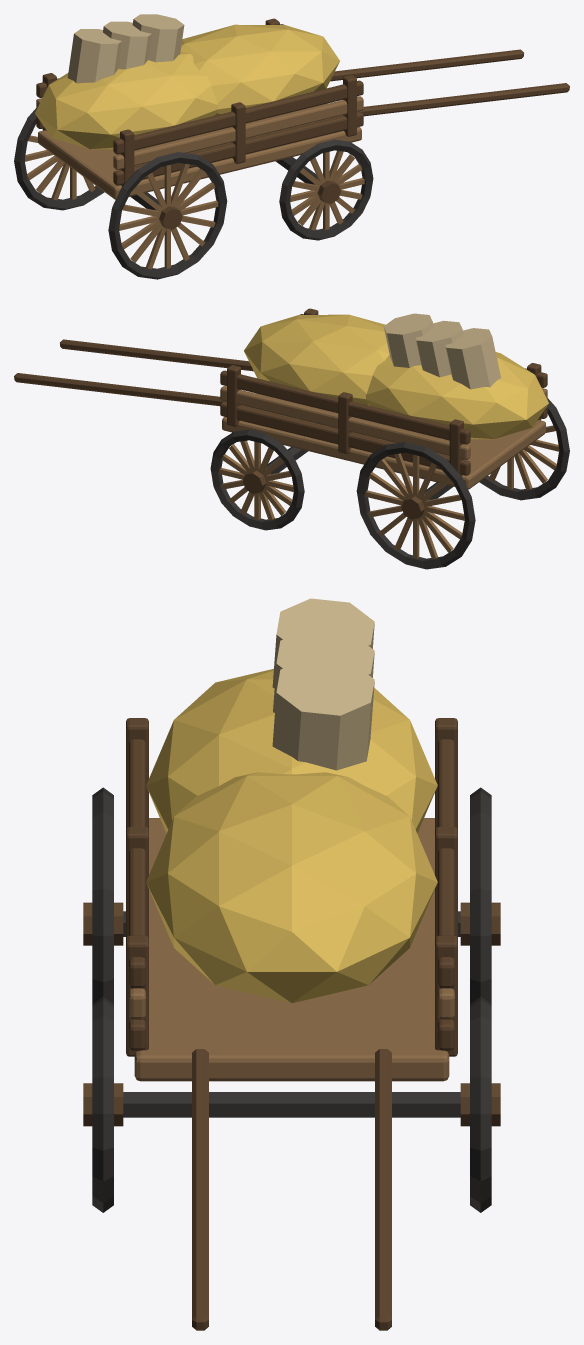
Rendered from wagon_1810.glb.
3 renders of one model, top to bottom at view 1: azimuth 30°, elevation 25°; view 2: azimuth 150°, elevation 25°; view 3: azimuth 270°, elevation 25°, orthographic. The views are drawn at different scales.
Parts seen in each view (by area): view 1: wagon_1810, wheel_1, wheel_0, wheel_3; view 2: wagon_1810, wheel_3, wheel_2, wheel_1; view 3: wagon_1810, wheel_1, wheel_3, wheel_0, wheel_2.
Part boxes in pixels (x1,y1,x2,y2): wagon_1810: (35,14,569,209); wheel_1: (108,152,227,279); wheel_0: (279,139,373,240); wheel_3: (14,108,104,210); wagon_1810: (14,308,548,499); wheel_3: (356,442,475,569); wheel_2: (210,429,304,530); wheel_1: (479,398,569,500); wagon_1810: (123,598,460,1330); wheel_1: (83,787,123,1003); wheel_3: (460,787,500,1003); wheel_0: (83,996,123,1212); wheel_2: (460,996,500,1212).
Bounding box in the file's own units: 2.02 × 0.802 × 0.73.
